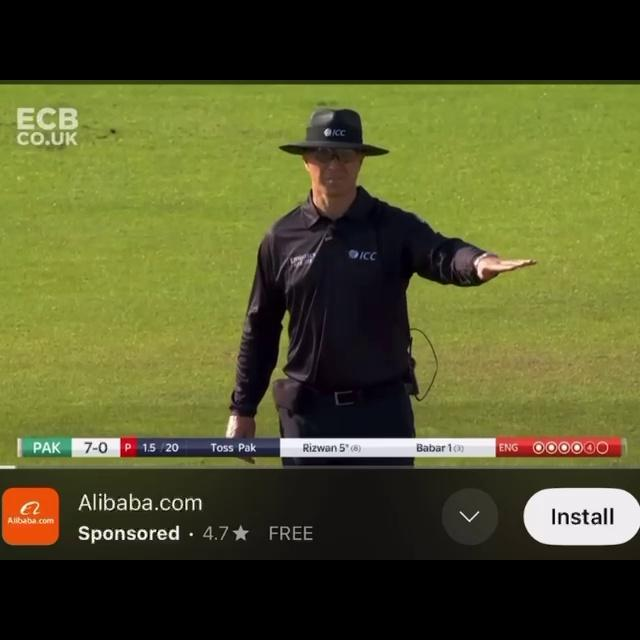umpire: (193, 100, 539, 438)
